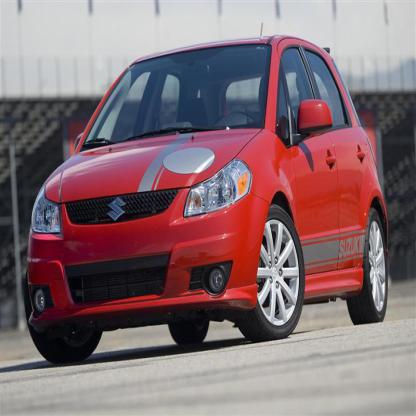Vehicle: (22, 24, 392, 367)
